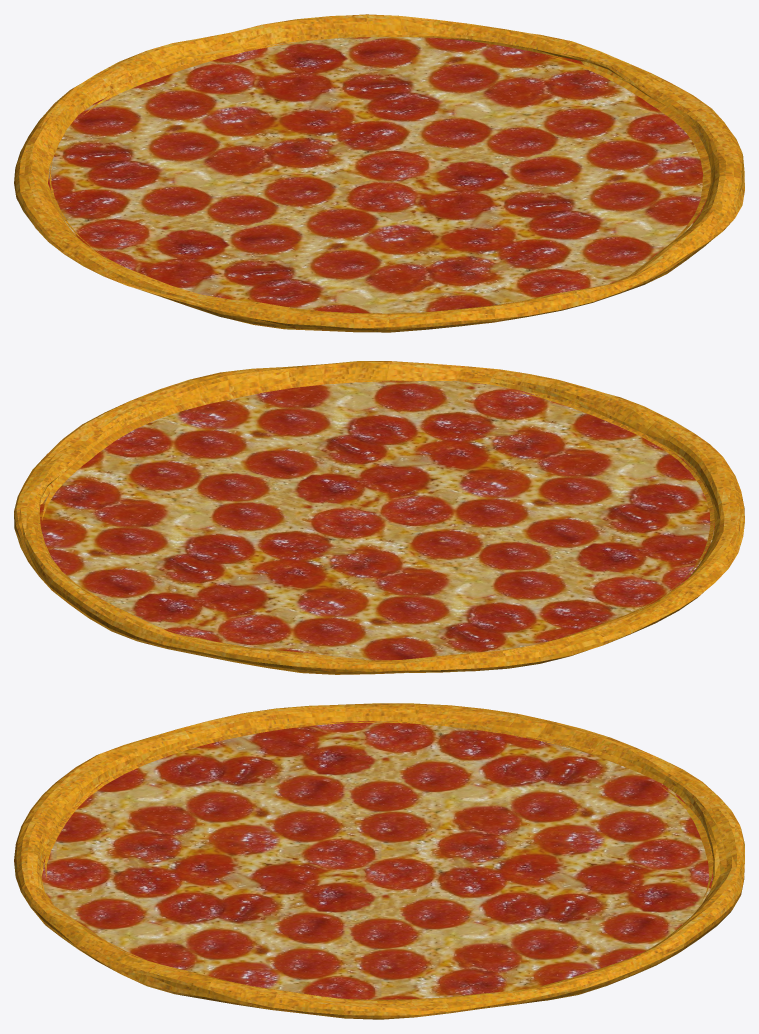
File: otherpizza.obj
3 renders of one model, top to bottom at view 1: azimuth 30°, elevation 25°; view 2: azimuth 150°, elevation 25°; view 3: azimuth 270°, elevation 25°, orthographic.
Visible parts, largest first — view 1: instance_0.001_ID20, instance_0_ID5; view 2: instance_0.001_ID20, instance_0_ID5; view 3: instance_0.001_ID20, instance_0_ID5.
Part boxes in pixels (x1,y1,x2,y2): instance_0.001_ID20: (48, 37, 706, 313); instance_0_ID5: (14, 14, 744, 332); instance_0.001_ID20: (39, 380, 714, 673); instance_0_ID5: (14, 361, 744, 674); instance_0.001_ID20: (41, 721, 713, 999); instance_0_ID5: (14, 703, 744, 1019).
Bounding box in the file's own units: 6.91 × 0.3572 × 6.86.
2 materials, 2 textured.
